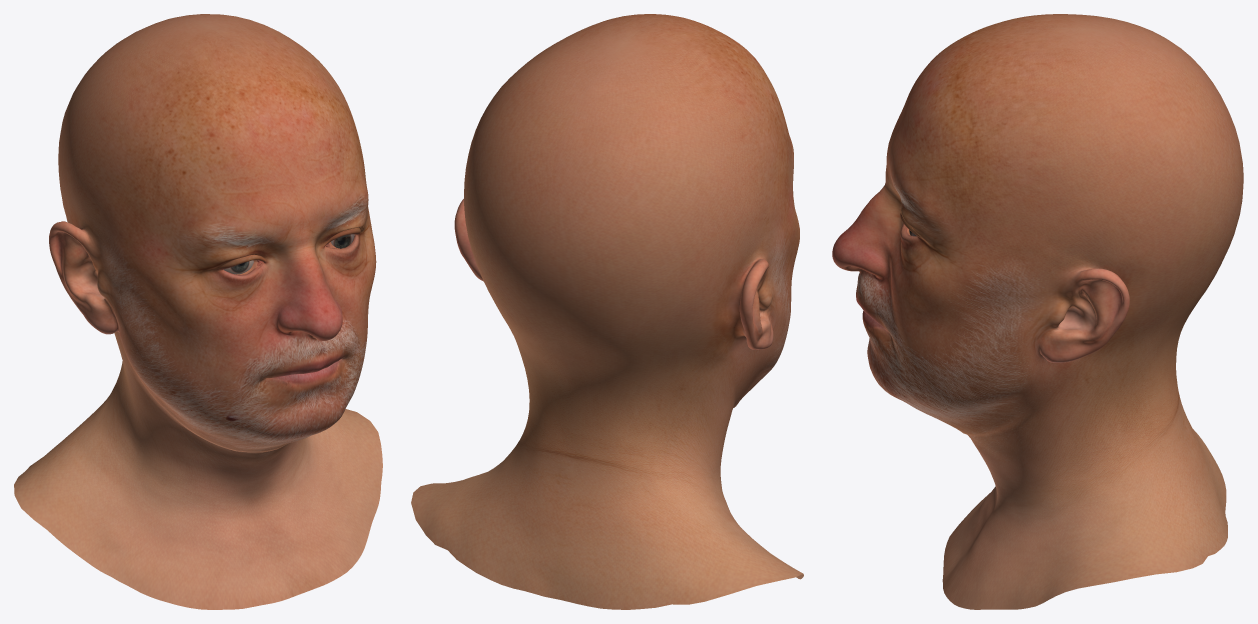
3 views of the same model, side by side, from view 1: azimuth 30°, elevation 25°; view 2: azimuth 150°, elevation 25°; view 3: azimuth 270°, elevation 25° (orthographic). The views are drawn at different scales.
Visible parts, largest first — view 1: Registered head; view 2: Registered head; view 3: Registered head.
Boxes of the visible parts, bbox=[...] form: Registered head: bbox=[14, 14, 382, 609]; Registered head: bbox=[411, 14, 803, 609]; Registered head: bbox=[832, 14, 1243, 609].
Bounding box in the file's own units: 1.28 × 1.84 × 1.26.
3 materials, 3 textured.
